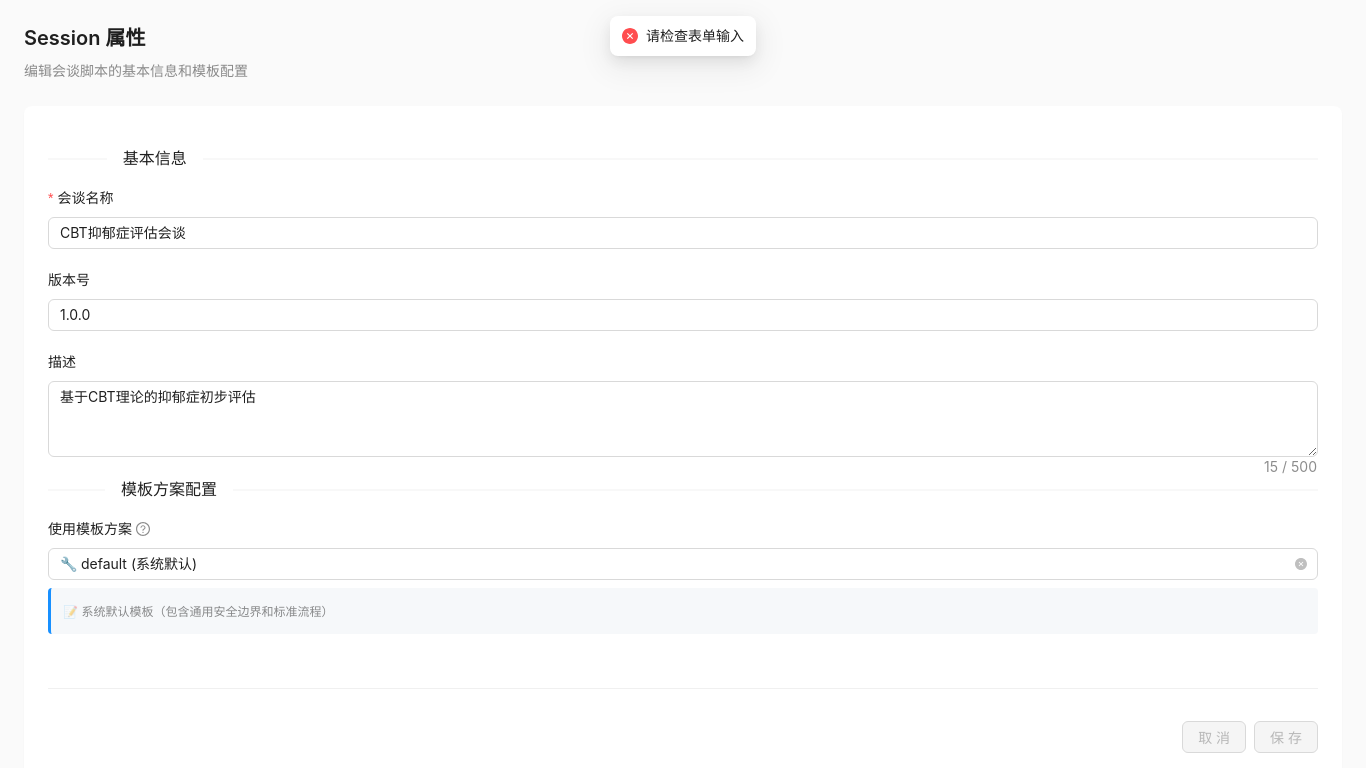
SessionPropertyPanel 组件 › 表单验证 › 版本号格式应该符合x.y.z
Type "v1.0" into the field with test id "input-version" at (683, 315), box [48,299,1318,331]
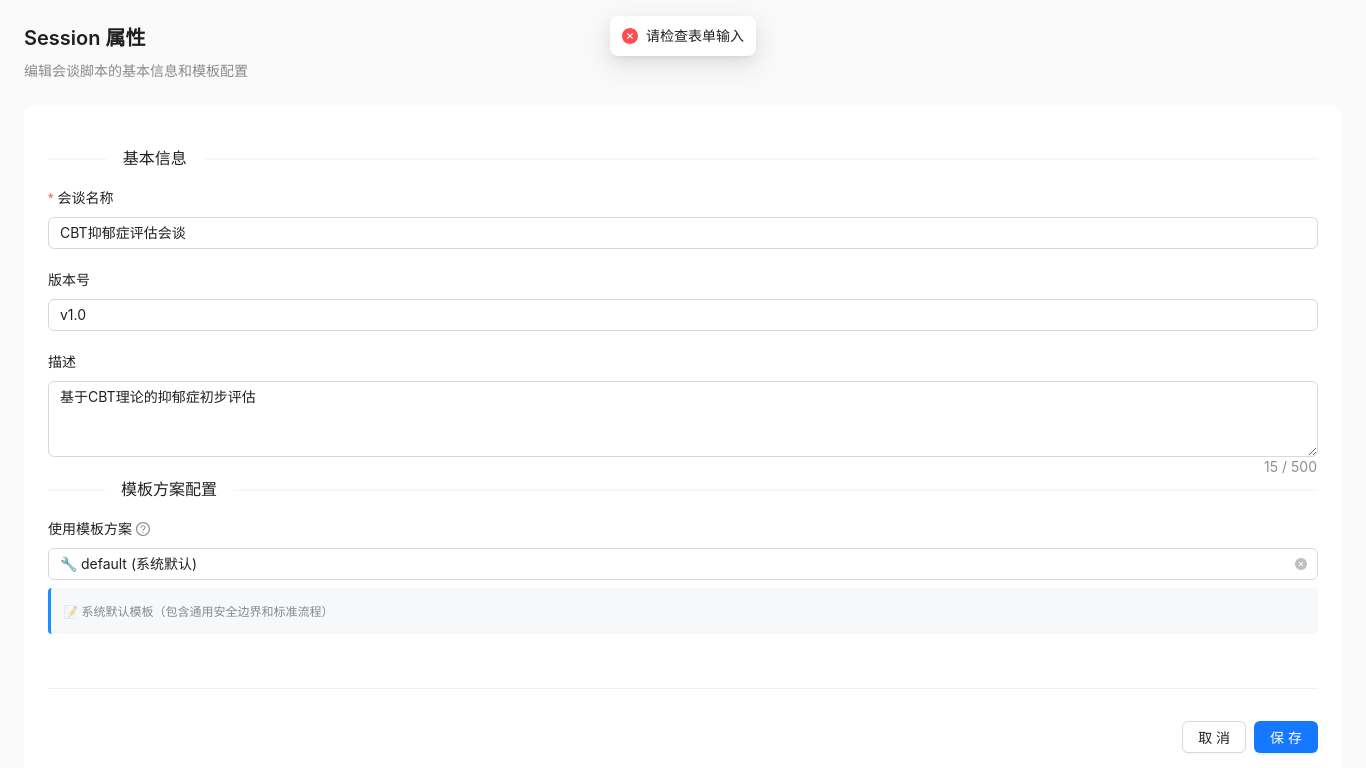
Click the button with test id "btn-save" at (1286, 737), box [1254,721,1318,753]
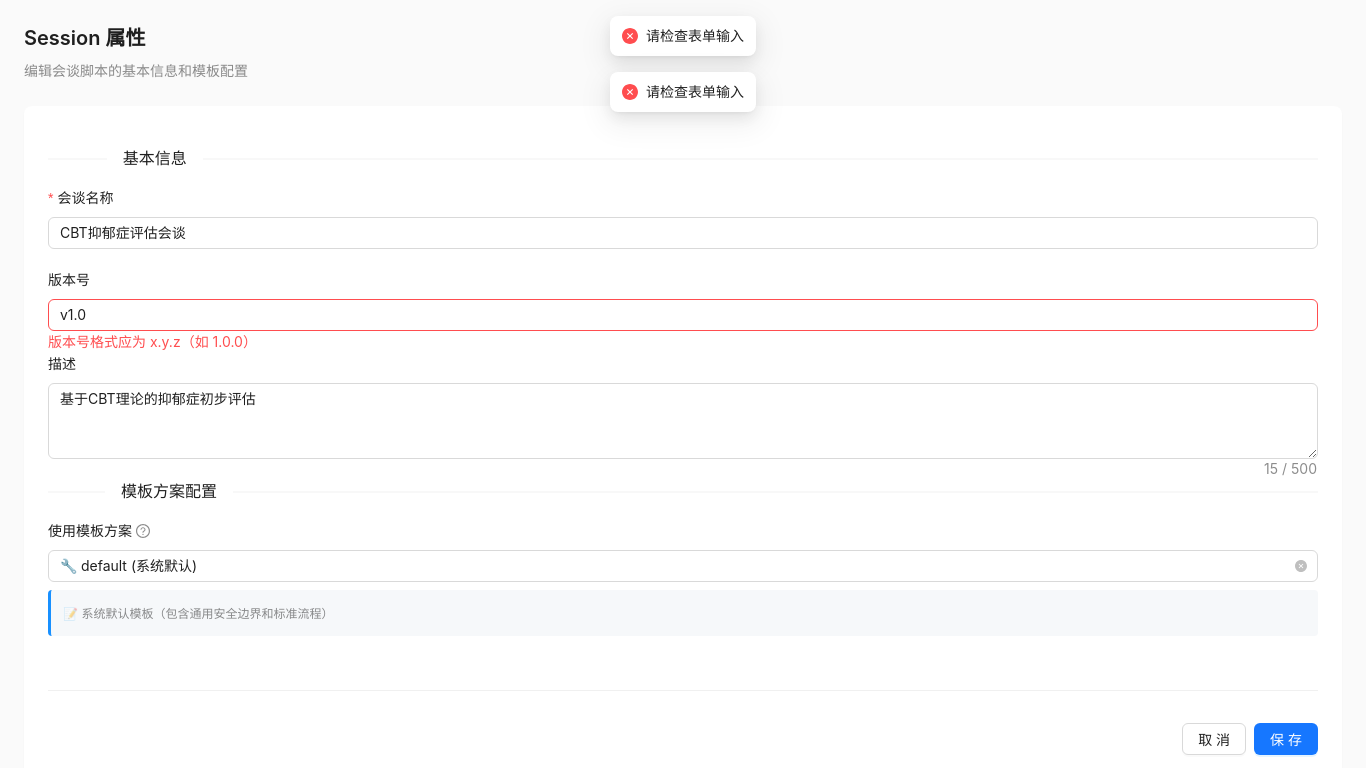
Now the text "版本号格式应为 x.y.z（如 1.0.0）" is shown, box [48,333,257,350]
